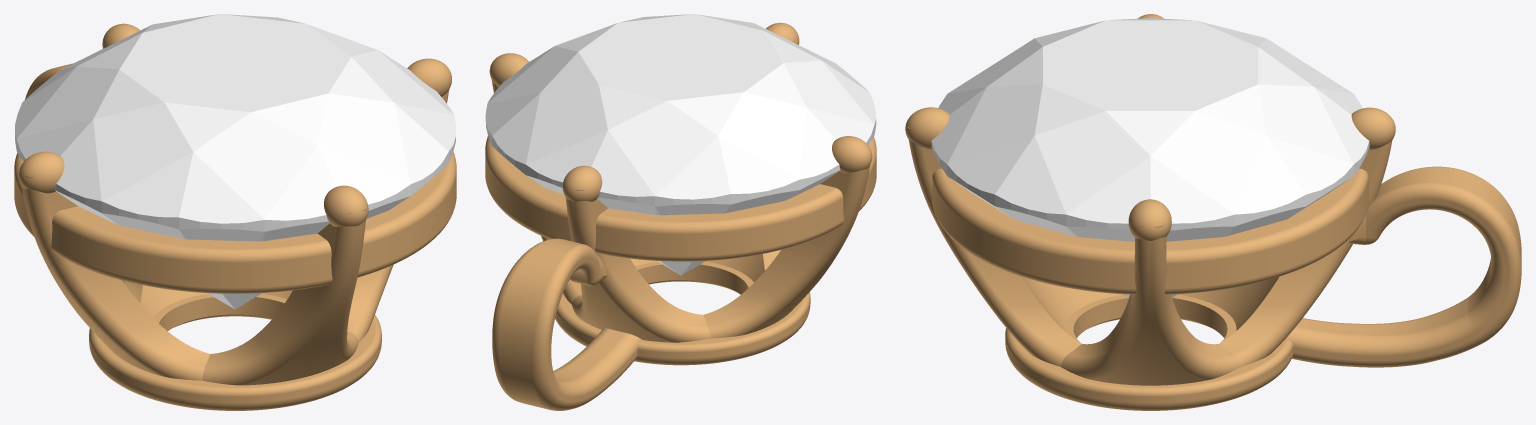
3 views of the same model, side by side, from view 1: azimuth 30°, elevation 25°; view 2: azimuth 150°, elevation 25°; view 3: azimuth 270°, elevation 25° (orthographic). The views are drawn at different scales.
Visible parts, largest first — view 1: Diamond_Round, SP-13dm; view 2: SP-13dm, Diamond_Round; view 3: SP-13dm, Diamond_Round.
Boxes of the visible parts, x1,y1,x2,y2 form: Diamond_Round: [15, 14, 455, 309]; SP-13dm: [14, 23, 456, 410]; SP-13dm: [485, 22, 876, 410]; Diamond_Round: [485, 14, 876, 275]; SP-13dm: [905, 14, 1521, 410]; Diamond_Round: [931, 18, 1369, 297].
Size of the model in its own units: 2.3 by 1.53 by 2.89.
